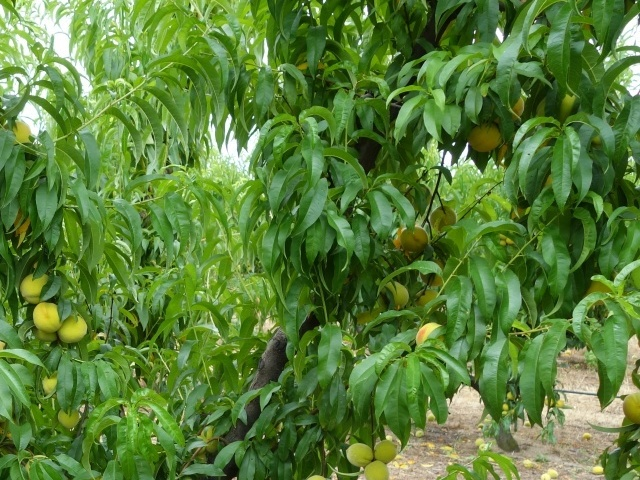peach: (18, 267, 57, 304), (30, 297, 67, 336), (467, 120, 504, 155), (56, 310, 90, 346), (345, 439, 378, 470), (414, 315, 445, 348), (400, 224, 431, 256), (9, 117, 39, 149), (385, 278, 411, 311), (373, 435, 401, 465), (431, 203, 458, 233), (56, 402, 84, 430), (413, 285, 441, 311), (620, 390, 639, 425), (358, 459, 389, 480)
